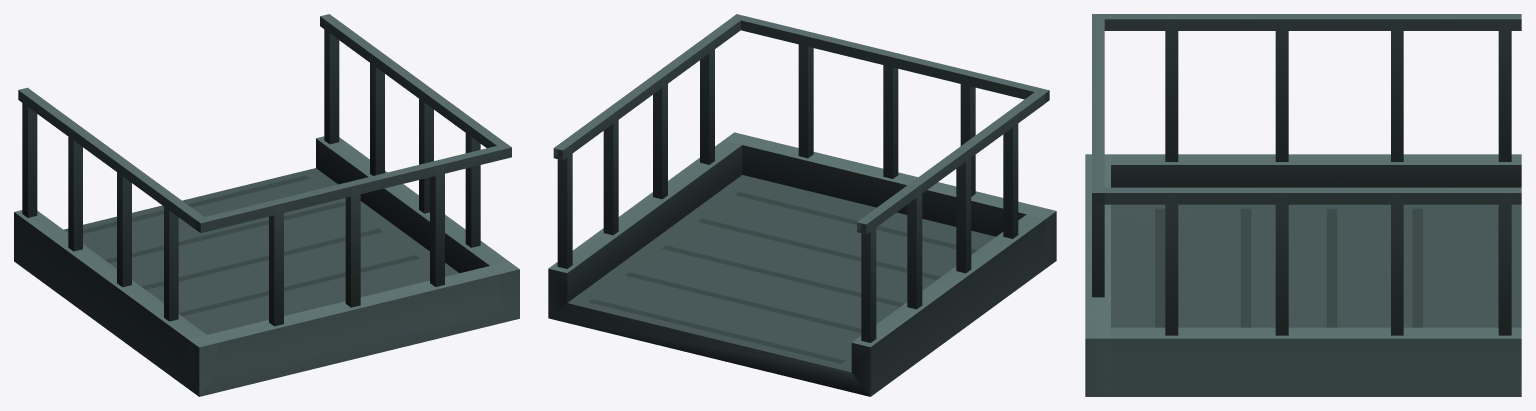
The model's file is Catwalk04.fbx.
The picture shows the model from 3 angles, left to right: view 1: azimuth 30°, elevation 25°; view 2: azimuth 150°, elevation 25°; view 3: azimuth 270°, elevation 25°; orthographic projection. The views are drawn at different scales.
Visible parts, largest first — view 1: catwalk04, Fence04; view 2: catwalk04, Fence04; view 3: catwalk04, Fence04.
Boxes of the visible parts, left/top/right/bottom form: catwalk04: left=14, top=136, right=519, bottom=396; Fence04: left=18, top=14, right=511, bottom=326; catwalk04: left=548, top=132, right=1056, bottom=396; Fence04: left=553, top=14, right=1049, bottom=342; catwalk04: left=1085, top=154, right=1521, bottom=396; Fence04: left=1092, top=14, right=1521, bottom=335.
Bounding box in the file's own units: 339 × 172 × 339.
